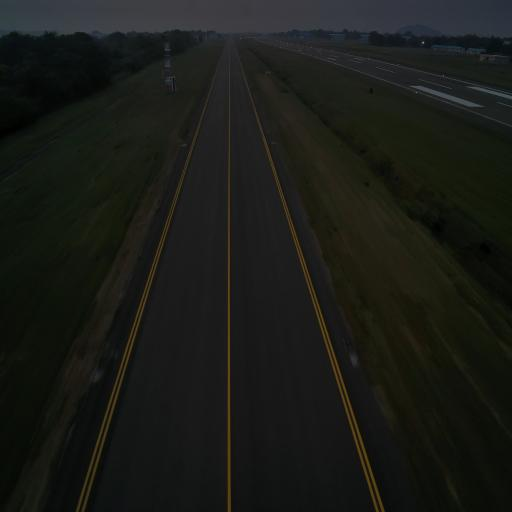on: (352, 350, 360, 363), (93, 367, 100, 380), (184, 141, 186, 145)
